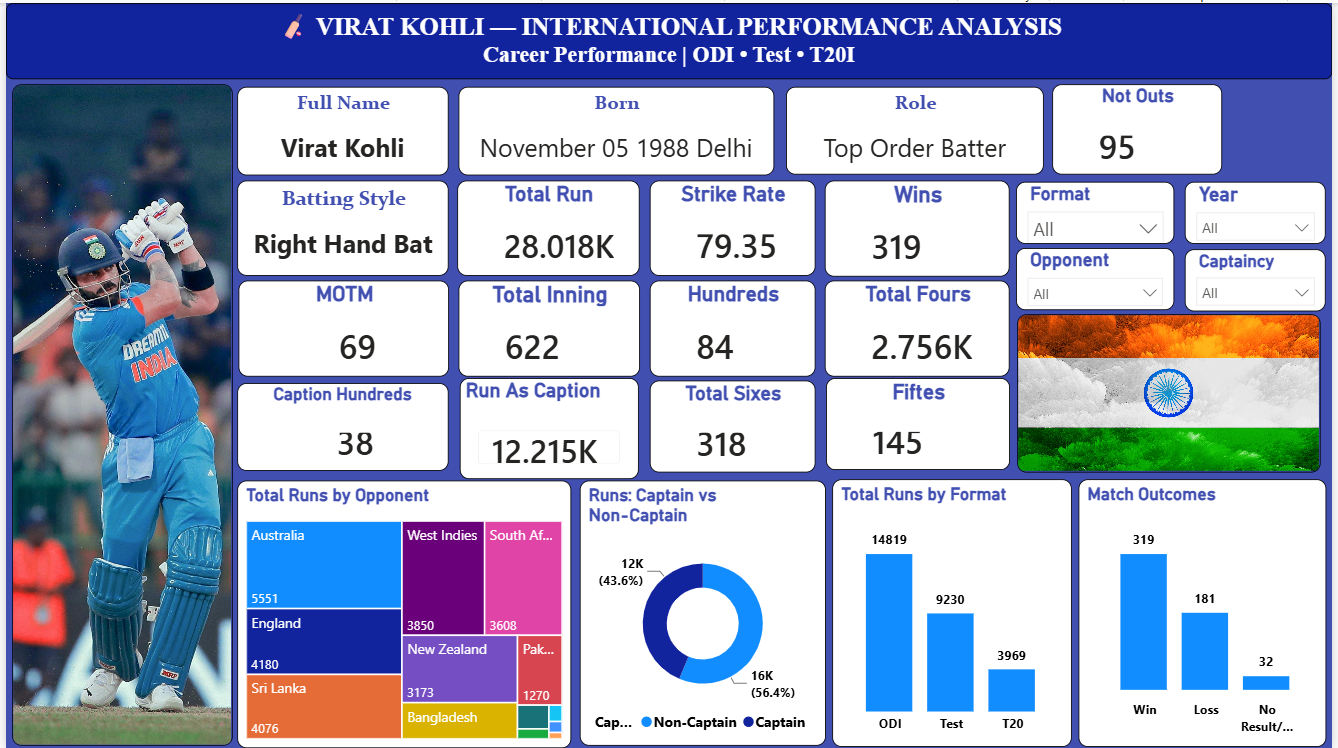

The dashboard page shown, as its layout file describes it:
{"tool":"powerbi","page":{"name":"Career Overview","canvas":[1280,720],"ordinal":0},"visuals":[{"type":"textbox","box":[0,0,1280,73.8],"z":0},{"type":"cardVisual","title":"Total Run","fields":{"Data":["Kohli_Performance.Total Runs"]},"box":[435.7,171.4,175.7,92.1],"z":1000},{"type":"cardVisual","title":"Total Inning","fields":{"Data":["Kohli_Performance.Total Innings"]},"box":[436.2,267.5,175,92.5],"z":2000},{"type":"cardVisual","title":"Hundreds","fields":{"Data":["Kohli_Performance.Hundreds"]},"box":[621.2,267.5,160,92.5],"z":3000},{"type":"cardVisual","title":"MOTM","fields":{"Data":["Kohli_Performance.MOTM"]},"box":[224.2,267.5,203.3,92.5],"z":4000},{"type":"cardVisual","title":"Fiftes","fields":{"Data":["Kohli_Performance.Fifties"]},"box":[791.2,362.5,177.5,88.8],"z":5000},{"type":"slicer","fields":{"Values":["Kohli_Performance.Format"]},"box":[975,172.5,152.9,60],"z":6000},{"type":"slicer","fields":{"Values":["Kohli_Performance.Opponent"]},"box":[975,236.2,152.5,60],"z":7000},{"type":"slicer","fields":{"Values":["Kohli_Performance.Year"]},"box":[1137.8,172.8,136.1,60],"z":8000},{"type":"treemap","fields":{"Group":["Kohli_Performance.Opponent"],"Values":["Kohli_Performance.Total Runs"]},"box":[223.6,460.9,322.7,258.2],"z":9000},{"type":"donutChart","title":"Runs: Captain vs Non-Captain","fields":{"Category":["Kohli_Performance.Captaincy"],"Y":["Kohli_Performance.Total Runs"]},"box":[553.8,460.8,237.7,256.2],"z":10000},{"type":"slicer","fields":{"Values":["Kohli_Performance.Captaincy"]},"box":[1137.5,237.5,136.2,60],"z":11000},{"type":"image","box":[6,78.7,212.7,638.7],"z":12000},{"type":"textbox","title":"Full Name","box":[223.6,80.9,203.6,85.5],"z":13000},{"type":"textbox","title":"Born","box":[436.4,80.9,304.5,85.5],"z":14000},{"type":"textbox","title":"Role","box":[752.5,81.2,248.8,85],"z":15000},{"type":"textbox","title":"Batting Style","box":[223.6,171.4,204.3,92.1],"z":16000},{"type":"cardVisual","title":"Caption Hundreds","fields":{"Data":["Kohli_Performance.Captain Hundreds"]},"box":[223.8,366.2,203.8,85],"z":17000},{"type":"cardVisual","title":"Strike Rate","fields":{"Data":["Kohli_Performance.Overall Strike Rate"]},"box":[621.4,171.4,160,92.1],"z":18000},{"type":"cardVisual","title":"Total Fours","fields":{"Data":["Kohli_Performance.Total Fours"]},"box":[790,267.5,178.8,92.5],"z":19000},{"type":"cardVisual","title":"Total Sixes","fields":{"Data":["Kohli_Performance.Total Sixes"]},"box":[621.2,363.8,160,88.8],"z":20000},{"type":"cardVisual","title":"Wins","fields":{"Data":["Kohli_Performance.Win"]},"box":[790,171.2,178.8,92.5],"z":21000},{"type":"cardVisual","title":"Not Outs","fields":{"Data":["Kohli_Performance.Not Outs"]},"box":[1010,78.8,163.8,87.5],"z":22000},{"type":"cardVisual","title":"Run As Caption","fields":{"Data":["Kohli_Performance.Captain Runs"]},"box":[438.1,361.9,173.1,97.5],"z":23000},{"type":"clusteredColumnChart","fields":{"Category":["Kohli_Performance.Format"],"Y":["Kohli_Performance.Total Runs"]},"box":[797.7,459.2,230.9,258.2],"z":24000},{"type":"clusteredColumnChart","title":"Match Outcomes","fields":{"Category":["Kohli_Performance.Result"],"Y":["Kohli_Performance.Total Matches"]},"box":[1034.7,459.4,238.8,258.2],"z":25000},{"type":"image","box":[975.5,300,292.7,152.7],"z":25001}]}

Visuals, with their boxes in screenshot pixels (x1, y1, x2, y2), scaled from the page's 1280x720 canvas onto the 1338x748 screenshot:
textbox: crop(0, 0, 1337, 77)
"Total Run" cardVisual: crop(455, 178, 639, 274)
"Total Inning" cardVisual: crop(456, 278, 639, 374)
"Hundreds" cardVisual: crop(649, 278, 817, 374)
"MOTM" cardVisual: crop(234, 278, 447, 374)
"Fiftes" cardVisual: crop(827, 377, 1013, 469)
slicer - Kohli_Performance.Format: crop(1019, 179, 1179, 242)
slicer - Kohli_Performance.Opponent: crop(1019, 245, 1179, 308)
slicer - Kohli_Performance.Year: crop(1189, 180, 1332, 242)
treemap - Kohli_Performance.Opponent x Kohli_Performance.Total Runs: crop(234, 479, 571, 747)
"Runs: Captain vs Non-Captain" donutChart: crop(579, 479, 827, 745)
slicer - Kohli_Performance.Captaincy: crop(1189, 247, 1331, 309)
image: crop(6, 82, 229, 745)
"Full Name" textbox: crop(234, 84, 447, 173)
"Born" textbox: crop(456, 84, 774, 173)
"Role" textbox: crop(787, 84, 1047, 173)
"Batting Style" textbox: crop(234, 178, 447, 274)
"Caption Hundreds" cardVisual: crop(234, 380, 447, 469)
"Strike Rate" cardVisual: crop(650, 178, 817, 274)
"Total Fours" cardVisual: crop(826, 278, 1013, 374)
"Total Sixes" cardVisual: crop(649, 378, 817, 470)
"Wins" cardVisual: crop(826, 178, 1013, 274)
"Not Outs" cardVisual: crop(1056, 82, 1227, 173)
"Run As Caption" cardVisual: crop(458, 376, 639, 477)
clusteredColumnChart - Kohli_Performance.Format x Kohli_Performance.Total Runs: crop(834, 477, 1075, 745)
"Match Outcomes" clusteredColumnChart: crop(1082, 477, 1331, 746)
image: crop(1020, 312, 1326, 470)
